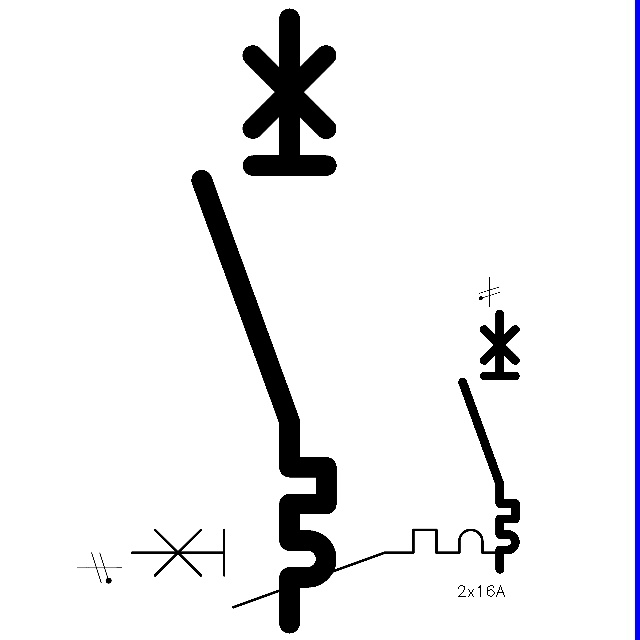interruptor_termomagnetico: (186, 3, 342, 639), (122, 520, 521, 617), (456, 307, 522, 576)
